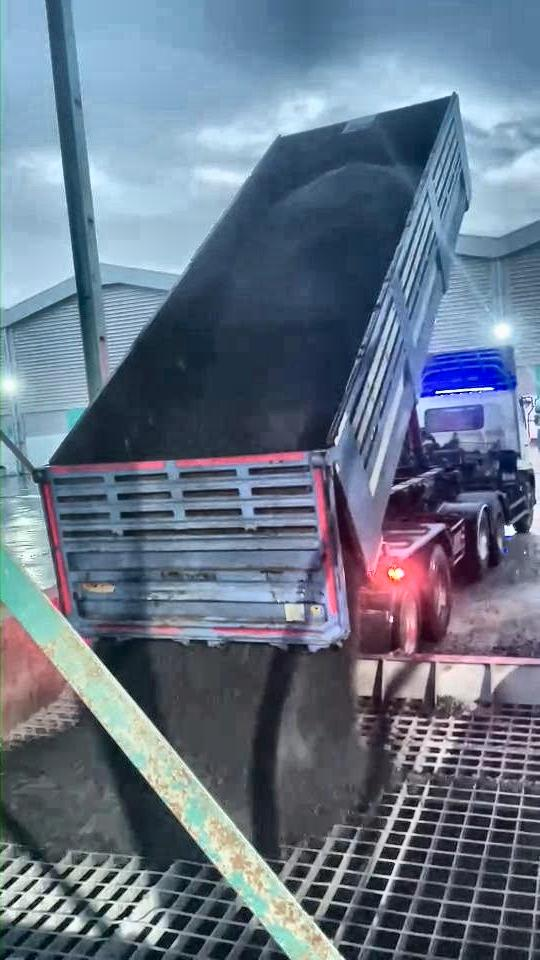gravel: (174, 161, 420, 455), (99, 640, 363, 855), (4, 714, 196, 866)
